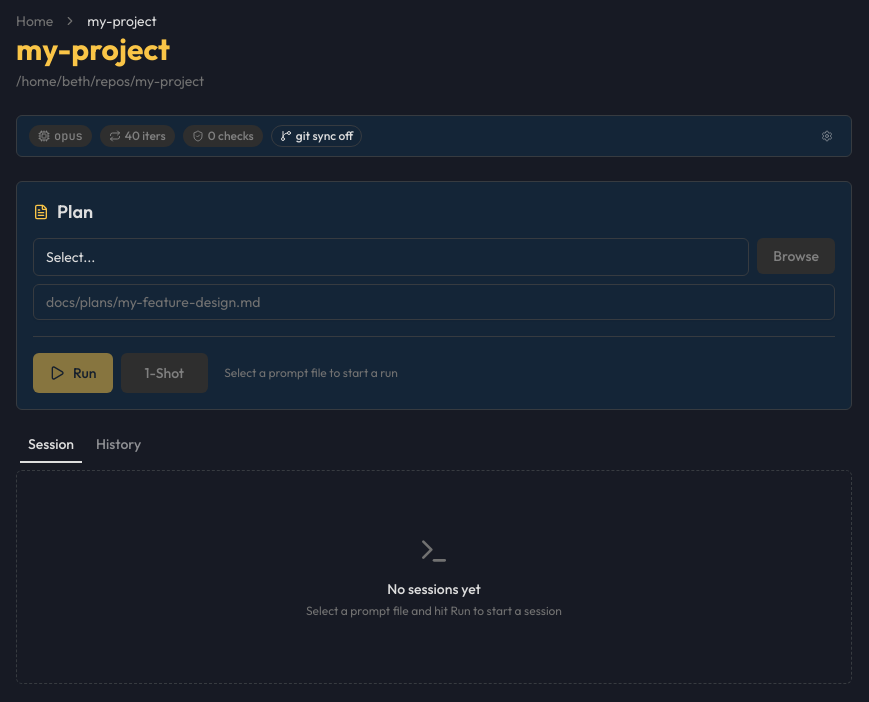
Scenario: RepoDetail › name editing › clicking the name enters edit mode (shows input)
Click the heading "my-project": (93, 49) 16,30 -> 170,68
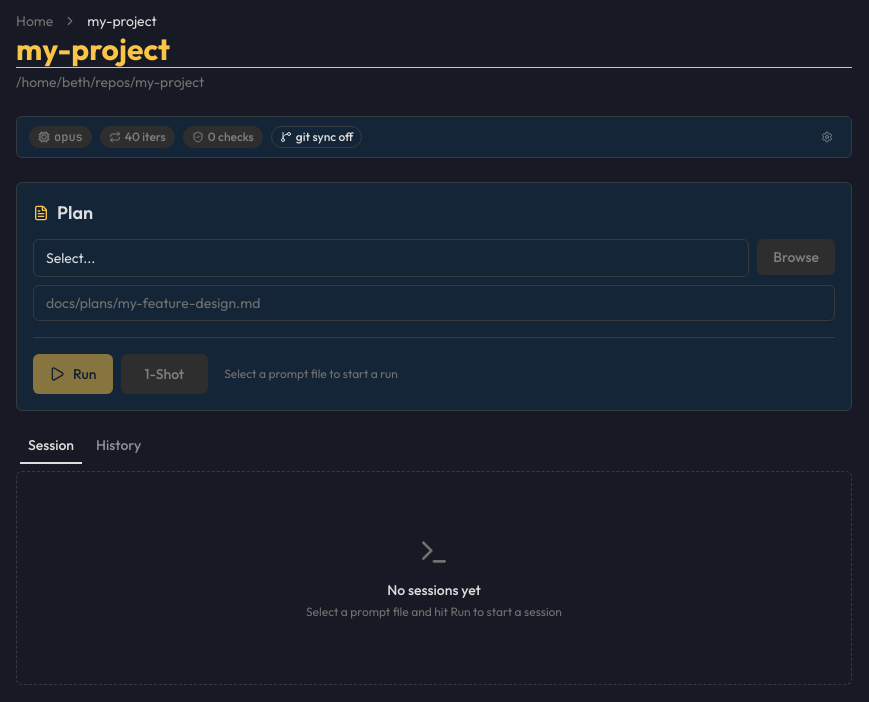
Now the field showing "my-project" is shown, box 16,31 -> 852,68
